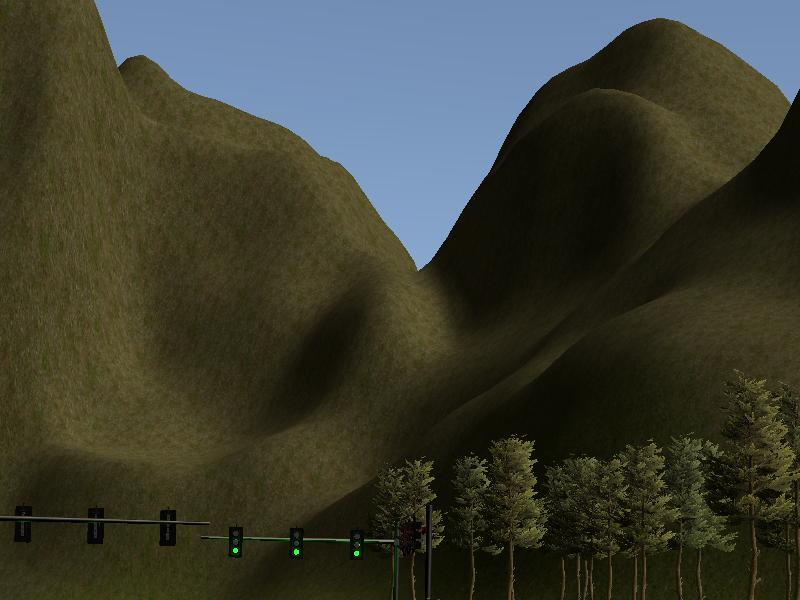Green: (230, 527, 242, 557), (291, 529, 304, 556), (349, 533, 362, 557)
